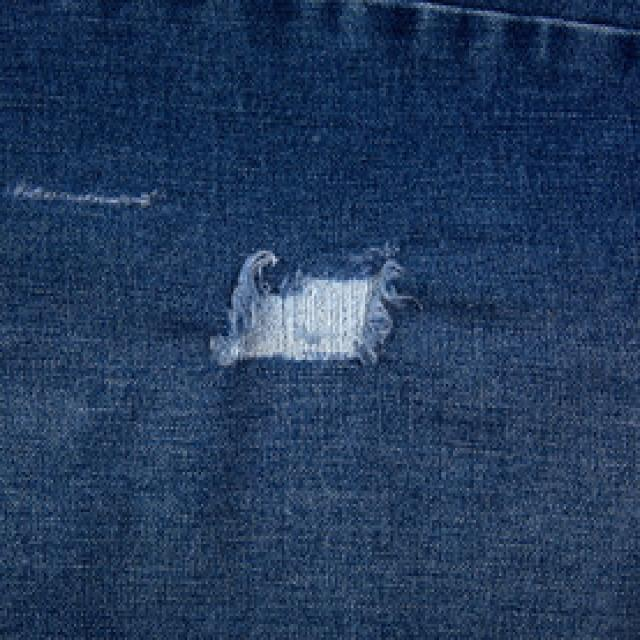Hole: (210, 246, 402, 366)
Line: (16, 186, 162, 210)
